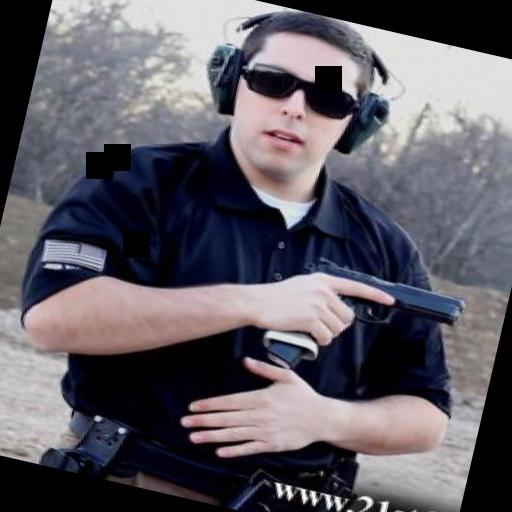Handgun: (258, 244, 474, 402)
